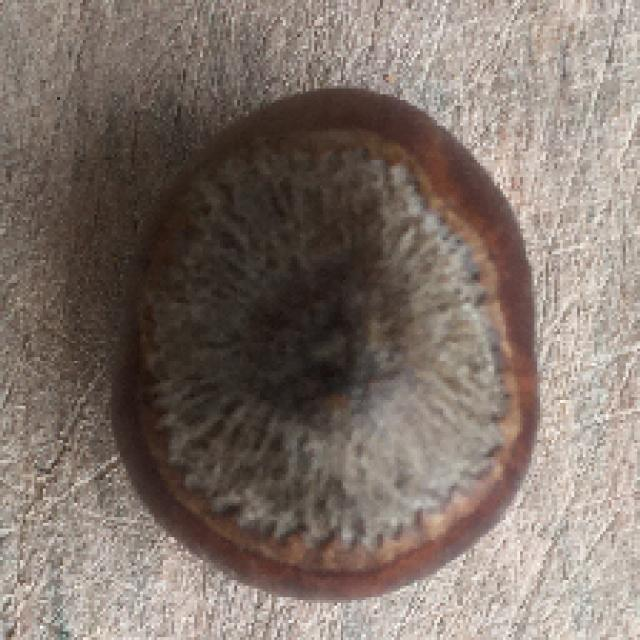damagedHazelnut: (113, 86, 552, 600)
